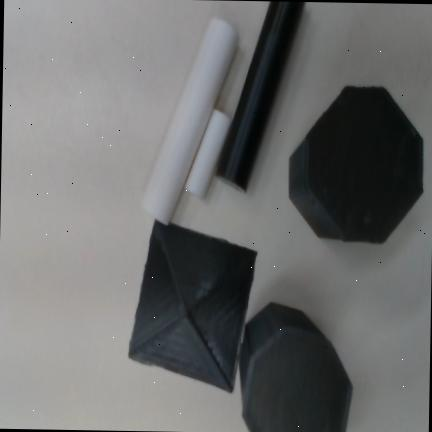Cilindro: (138, 17, 240, 225), (215, 2, 304, 191), (185, 109, 231, 198)
Piramide: (128, 218, 257, 394)
Prisma_hexagonal: (288, 85, 423, 245), (238, 302, 353, 432)
